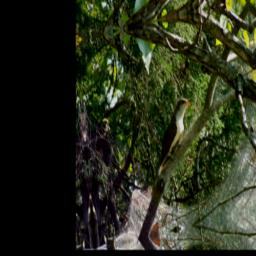Cuckoo: (142, 94, 199, 196)
